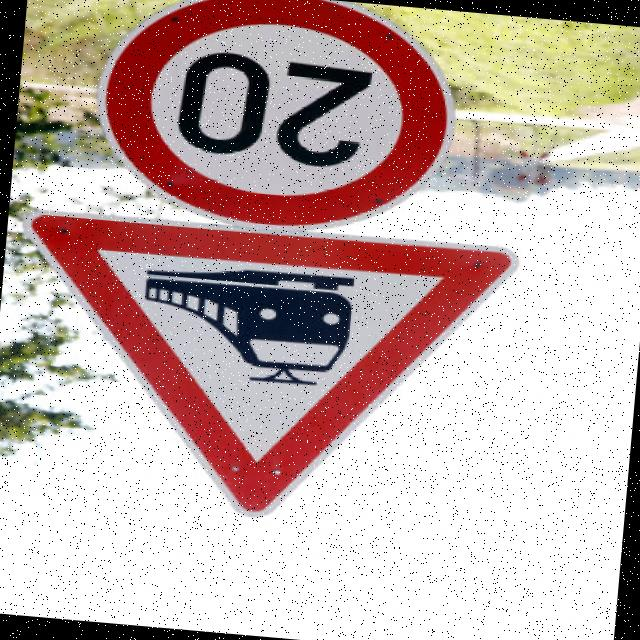speed_limit_20: (85, 0, 468, 246)
